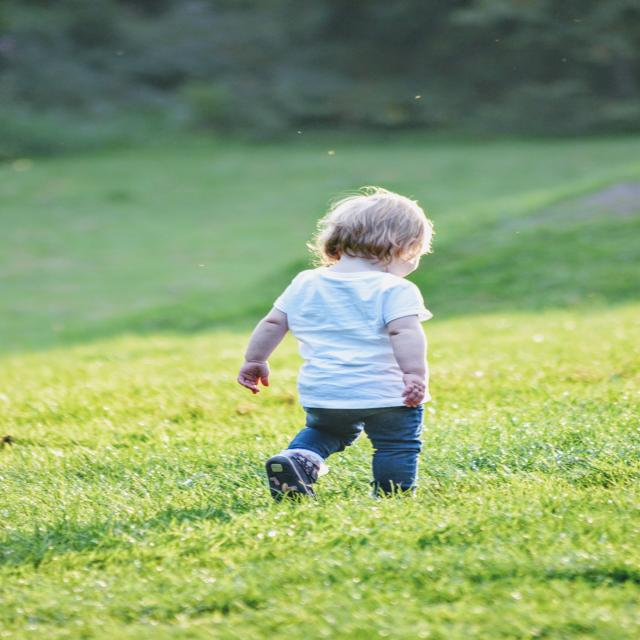Person: (236, 187, 433, 498)
